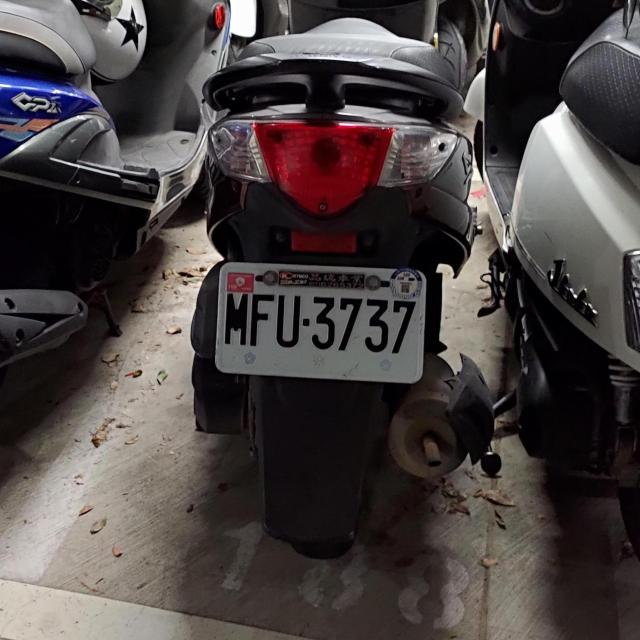W: (214, 258, 425, 379)
